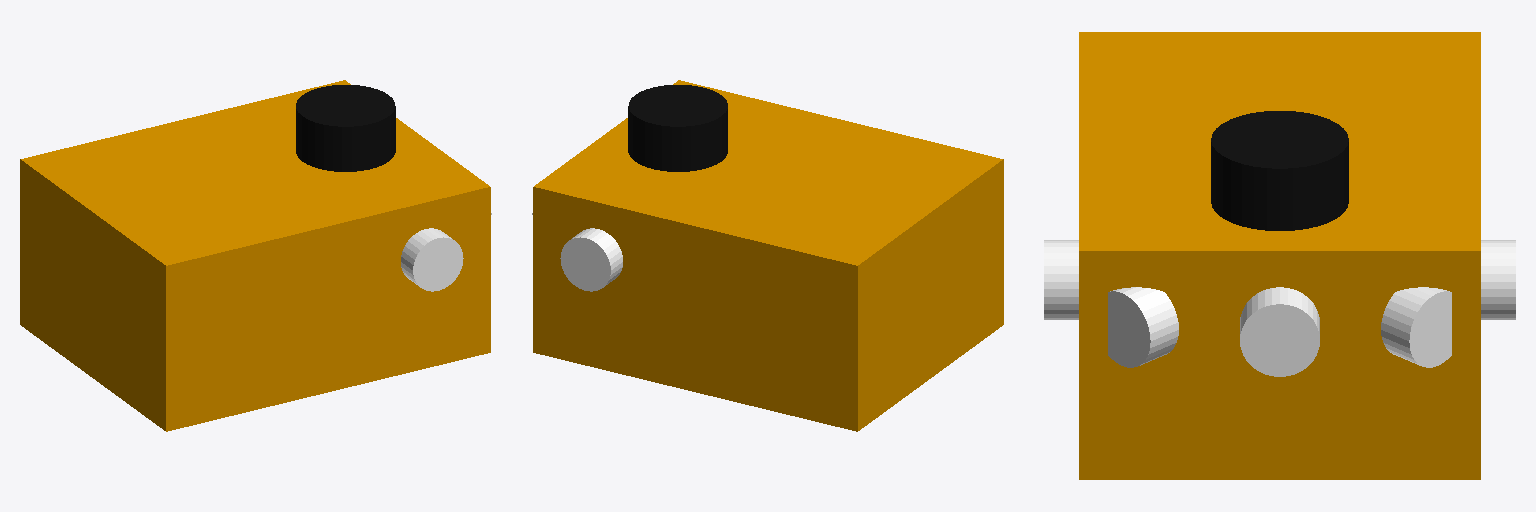
The robot description file, URDF, robot "IMRrobot":
<?xml version="1.0"?>

<robot name="IMRrobot">

   <material name="white">
      <color rgba="1 1 1 1"/>
    </material>

    <material name="black">
      <color rgba="0.1 0.1 0.1 1"/>
    </material>

  <link name="base_link">
    <visual>
      <geometry>
        <box size="0.45 0.35 0.22"/>
      </geometry>
      <origin rpy="0 0 0" xyz="0 0 0.11"/>
    </visual>
  </link>

  <!-- LIDAR -->
  <link name="lidar_link">
    <visual>
      <geometry>
        <cylinder length="0.06" radius="0.06"/>
      </geometry>
      <origin rpy="0 0 1.57075" xyz="0 0 0"/>
      <material name="black"/>
    </visual>
  </link>

  <joint name="lidar_link_joint" type="fixed">
    <axis xyz="1 0 0"/>
    <parent link="base_link"/>
    <child link="lidar_link"/>.
    <origin rpy="0 0 0" xyz="0.125 0 0.25"/>
  </joint>

   <!-- SONAR0 -->
  <link name="sonar0">
    <visual>
      <geometry>
         <cylinder length="0.035" radius="0.035"/>
        <!--  <mesh filename="package://hector_sensors_description/meshes/sonar_sensor/max_sonar_ez4.dae"/> -->
      </geometry>
      <origin rpy="0 1.57075 0" xyz="0 0 0"/>
      <material name="white"/>
    </visual>
  </link>

  <joint name="sonar0_joint" type="fixed">
    <parent link="base_link"/>
    <child link="sonar0"/>
    <origin rpy="0 0 1.57075" xyz="0.135 0.1875 0.15"/>
   <!-- <axis xyz="0 0 1"/>
    <origin xyz="0 -0.22 0.25"/> -->
  </joint>

<!-- SONAR1 -->
  <link name="sonar1">
    <visual>
      <geometry>
         <cylinder length="0.035" radius="0.035"/>
        <!--  <mesh filename="package://hector_sensors_description/meshes/sonar_sensor/max_sonar_ez4.dae"/> -->
      </geometry>
      <origin rpy="0 1.57075 0" xyz="0 0 0"/>
      <material name="white"/>
    </visual>
  </link>

  <joint name="sonar1_joint" type="fixed">
    <parent link="base_link"/>
    <child link="sonar1"/>
    <origin rpy="0 0 0.785398" xyz="0.225 0.125 0.15"/>
   <!-- <axis xyz="0 0 1"/>
    <origin xyz="0 -0.22 0.25"/> -->
  </joint>

 <!-- SONAR2 -->
  <link name="sonar2">
    <visual>
      <geometry>
         <cylinder length="0.035" radius="0.035"/>
        <!--  <mesh filename="package://hector_sensors_description/meshes/sonar_sensor/max_sonar_ez4.dae"/> -->
      </geometry>
      <origin rpy="0 1.57075 0" xyz="0 0 0"/>
      <material name="white"/>
    </visual>
  </link>

  <joint name="sonar2_joint" type="fixed">
    <parent link="base_link"/>
    <child link="sonar2"/>
    <origin rpy="0 0 0" xyz="0.2425 0 0.15"/>
   <!-- <axis xyz="0 0 1"/>
    <origin xyz="0 -0.22 0.25"/> -->
  </joint>


 <!-- SONAR3 -->
  <link name="sonar3">
    <visual>
      <geometry>
         <cylinder length="0.035" radius="0.035"/>
        <!--  <mesh filename="package://hector_sensors_description/meshes/sonar_sensor/max_sonar_ez4.dae"/> -->
      </geometry>
      <origin rpy="0 1.57075 0" xyz="0 0 0"/>
      <material name="white"/>
    </visual>
  </link>

  <joint name="sonar3_joint" type="fixed">
    <parent link="base_link"/>
    <child link="sonar3"/>
    <origin rpy="0 0 -0.785398" xyz="0.225 -0.125 0.15"/>
   <!-- <axis xyz="0 0 1"/>
    <origin xyz="0 -0.22 0.25"/> -->
  </joint>

   <!-- SONAR4 -->
  <link name="sonar4">
    <visual>
      <geometry>
         <cylinder length="0.035" radius="0.035"/>
        <!--  <mesh filename="package://hector_sensors_description/meshes/sonar_sensor/max_sonar_ez4.dae"/> -->
      </geometry>
      <origin rpy="0 1.57075 0" xyz="0 0 0"/>
      <material name="white"/>
    </visual>
  </link>

  <joint name="sonar4_joint" type="fixed">
    <parent link="base_link"/>
    <child link="sonar4"/>
    <origin rpy="0 0 -1.57075" xyz="0.135 -0.1875 0.15"/>
   <!-- <axis xyz="0 0 1"/>
    <origin xyz="0 -0.22 0.25"/> -->
  </joint>


</robot>

--- Facts derived from the render (not from the file) ---
Views: 3 orthographic renders of the robot side by side, from view 1: azimuth 30°, elevation 25°; view 2: azimuth 150°, elevation 25°; view 3: azimuth 270°, elevation 25°.
Model IMRrobot with 7 links and 6 joints (6 fixed), rooted at base_link, posed every joint at zero.
Visible links, largest first — view 1: base_link, lidar_link, sonar4; view 2: base_link, lidar_link, sonar0; view 3: base_link, lidar_link, sonar2, sonar1, sonar3, sonar0, sonar4.
Boxes of the visible links, x1,y1,x2,y2 form: base_link: (20, 80, 490, 431); lidar_link: (296, 85, 395, 171); sonar4: (401, 228, 463, 291); base_link: (533, 80, 1003, 431); lidar_link: (628, 85, 727, 171); sonar0: (560, 228, 622, 291); base_link: (1079, 32, 1480, 479); lidar_link: (1211, 111, 1348, 230); sonar2: (1240, 287, 1319, 376); sonar1: (1381, 287, 1451, 367); sonar3: (1108, 287, 1178, 367); sonar0: (1481, 240, 1515, 319); sonar4: (1044, 240, 1078, 319).
Size in the robot's own frame: 0.4871 by 0.41 by 0.28 metres.
Geometry: primitives only (box / cylinder / sphere), no mesh files.